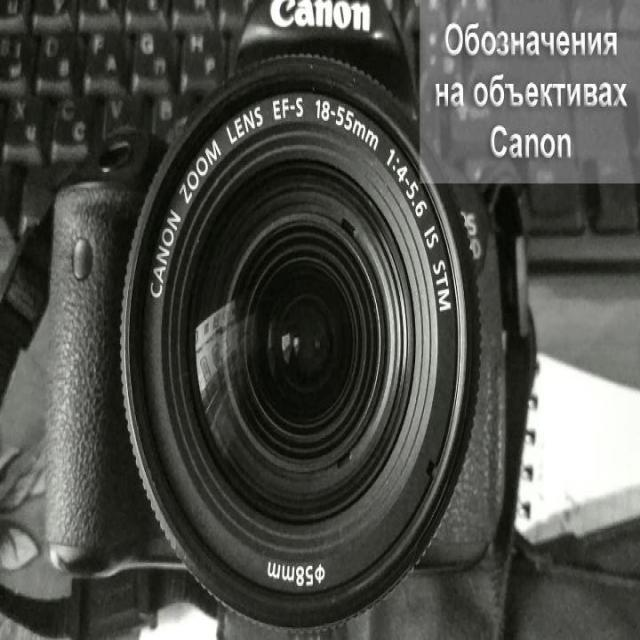hidden camera: (164, 119, 458, 585)
